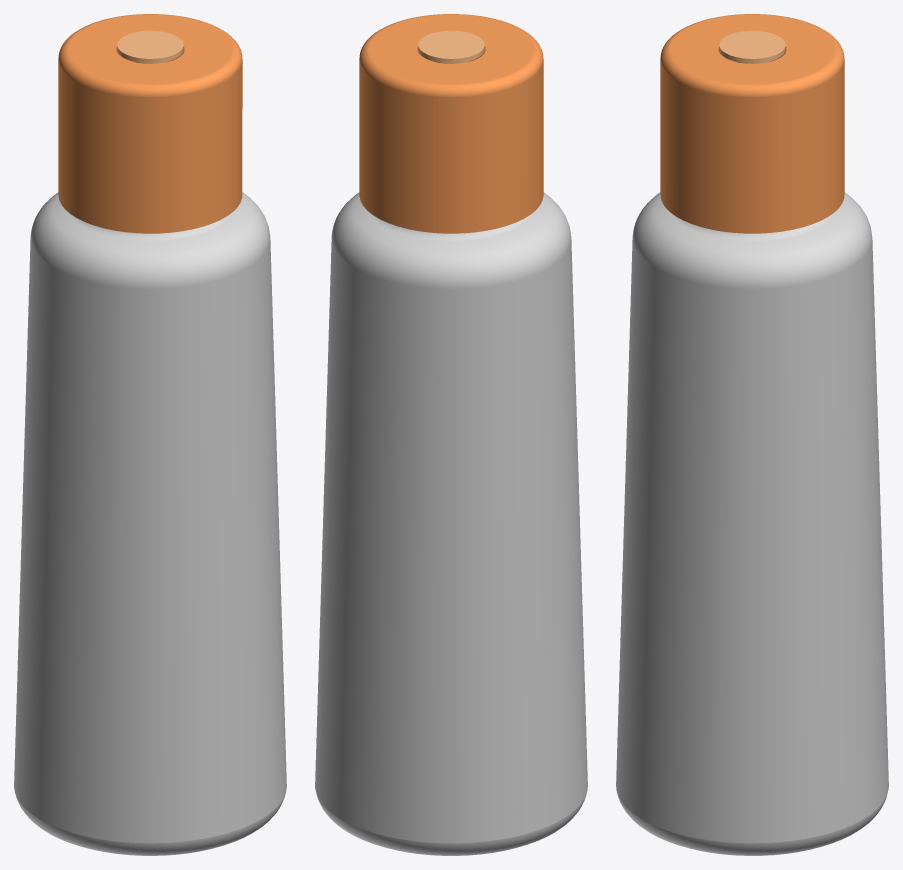
Rendered from Kore_2.glb.
3 renders of one model, left to right at view 1: azimuth 30°, elevation 25°; view 2: azimuth 150°, elevation 25°; view 3: azimuth 270°, elevation 25°, orthographic.
Visible parts, largest first — view 1: Botella-1, Tapón primario-1, Botón-1; view 2: Botella-1, Tapón primario-1, Botón-1; view 3: Botella-1, Tapón primario-1, Botón-1.
Boxes of the visible parts, x1=… form: Botella-1: x1=14, y1=192, x2=286, y2=855; Tapón primario-1: x1=58, y1=14, x2=242, y2=233; Botón-1: x1=117, y1=30, x2=183, y2=63; Botella-1: x1=315, y1=192, x2=587, y2=855; Tapón primario-1: x1=359, y1=14, x2=543, y2=233; Botón-1: x1=418, y1=30, x2=484, y2=63; Botella-1: x1=616, y1=192, x2=888, y2=855; Tapón primario-1: x1=660, y1=14, x2=844, y2=233; Botón-1: x1=719, y1=30, x2=785, y2=63.
Bounding box in the file's own units: 0.08 × 0.2466 × 0.08.
